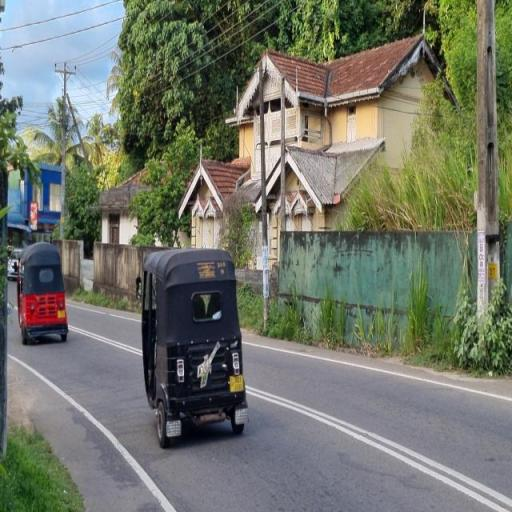double_white_line: (252, 378, 510, 511), (10, 348, 176, 510)
